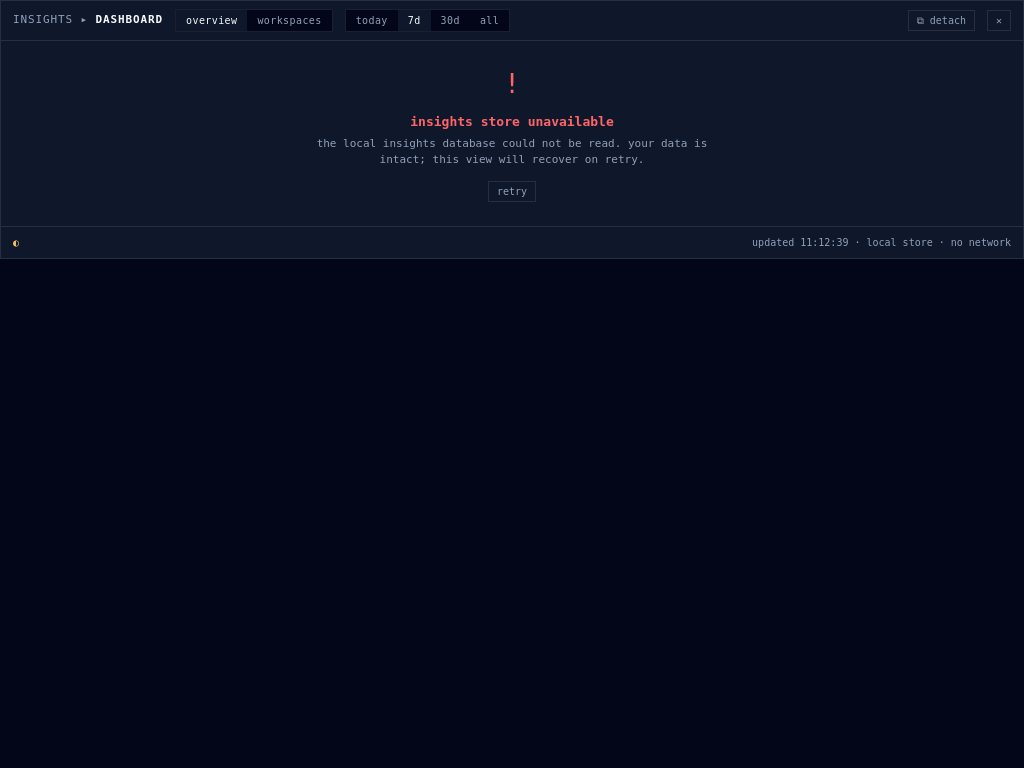
Test: InsightsDashboard › error + retry: a query-failed read shows the error state; retry refetches and recovers
The width and height of the screenshot is (1024, 768).
Expected: the text "insights store unavailable" is shown, [410,114,614,129]
Click the button "retry" at coordinates (512, 191), box [488,180,536,202]
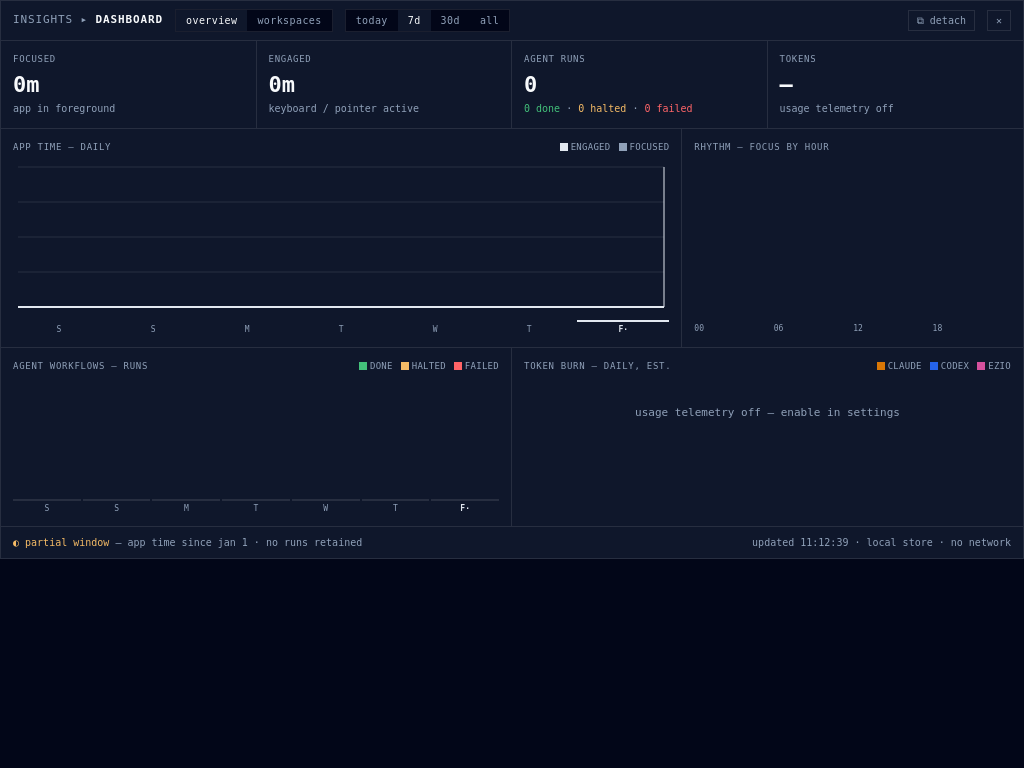
Expected: the text "insights store unavailable" is gone
